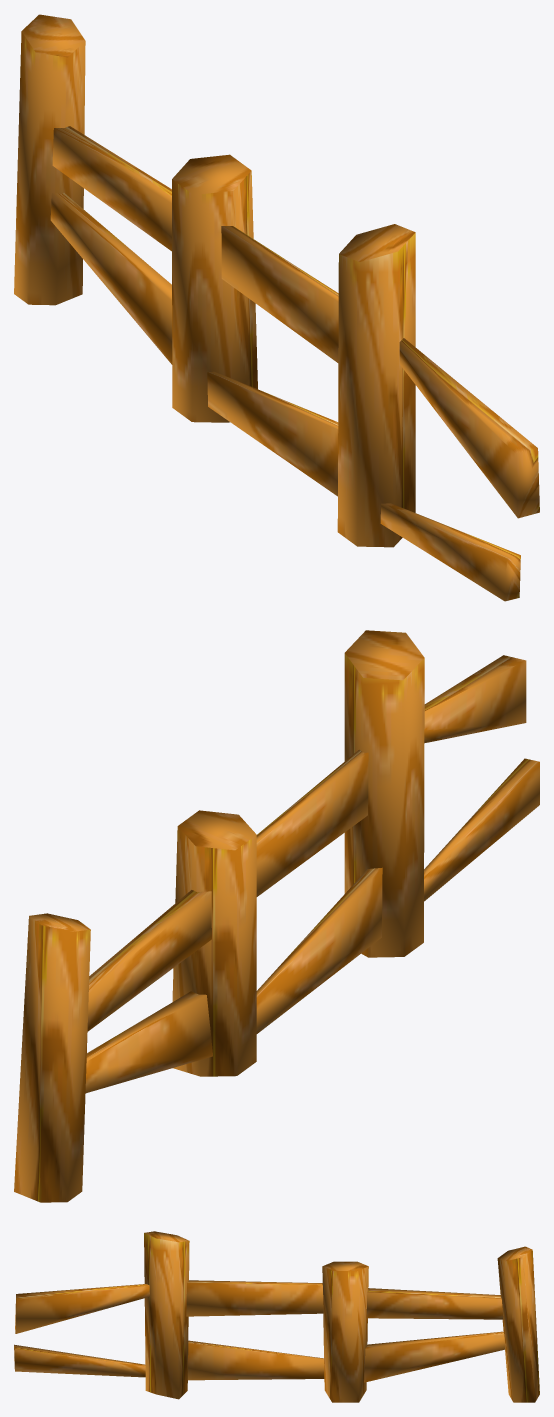
The model's file is fence_wood_base.fbx.
3 views of the same model, one above another, from view 1: azimuth 30°, elevation 25°; view 2: azimuth 150°, elevation 25°; view 3: azimuth 270°, elevation 25° (orthographic). The views are drawn at different scales.
Visible parts, largest first — view 1: Fence_base; view 2: Fence_base; view 3: Fence_base.
Part boxes in pixels (<box>): Fence_base: <box>14,14,539,601</box>; Fence_base: <box>14,630,539,1202</box>; Fence_base: <box>14,1231,539,1402</box>.
Bounding box in the file's own units: 0.2241 × 1 × 2.91.
